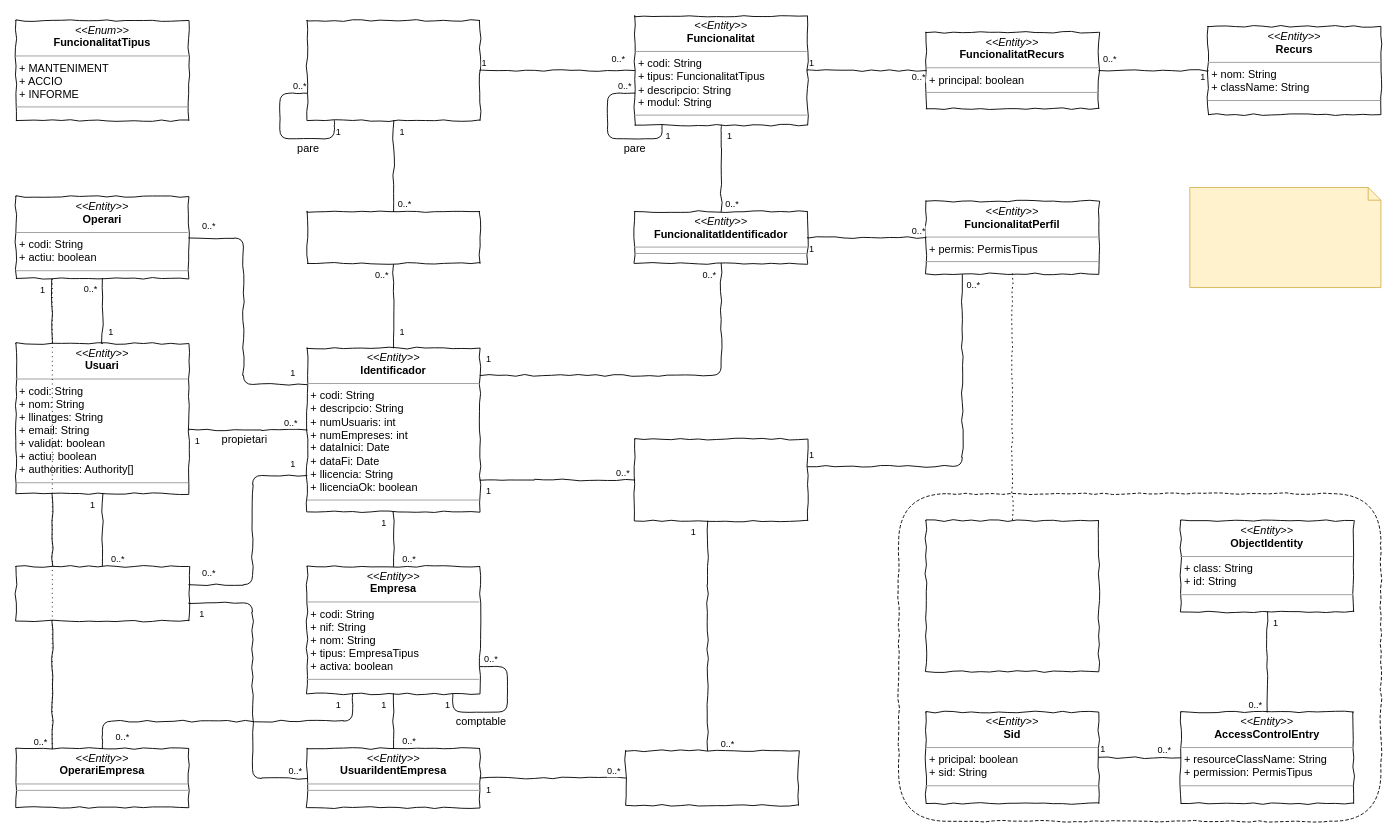
Image size: 1397x837. Some labels were removed from this diagram. Here are the shapes that lost their labels. From the top down, the box of each, then its label:
(306, 20, 480, 121): <<Entity>> Agrupacio + codi: String + descripcio: String + modul: String
(306, 211, 480, 263): <<Entity>> Agrupacio Identificador
(1189, 187, 1381, 288): Menús i mòduls estaran definits al codi font.
(634, 438, 808, 521): <<Entity>> Perfil + codi: String + descripcio: String
(15, 566, 189, 621): <<Entity>> Usuari Ident
(925, 520, 1099, 672): <<Enum>> PermisTipus + READ + WRITE + CREATE + DELETE + ADMIN + EXEC + PRINT
(898, 493, 1381, 821): ACLs
(625, 750, 799, 805): <<Entity>> Perfil Usuari Ident Empresa
